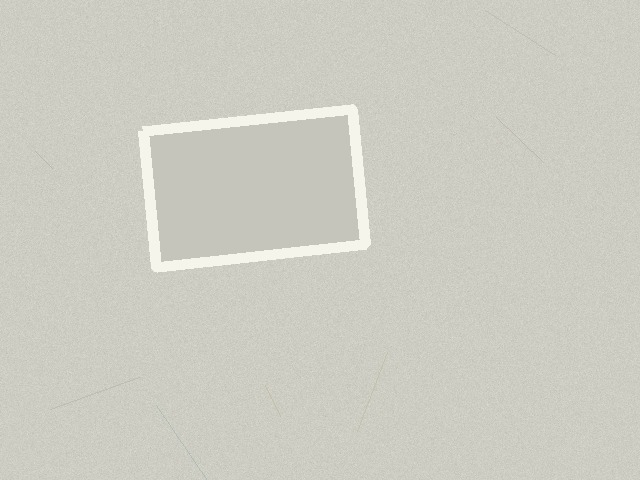parking_area: (143, 109, 365, 267)
